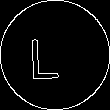L_N: (39, 29, 71, 81)
